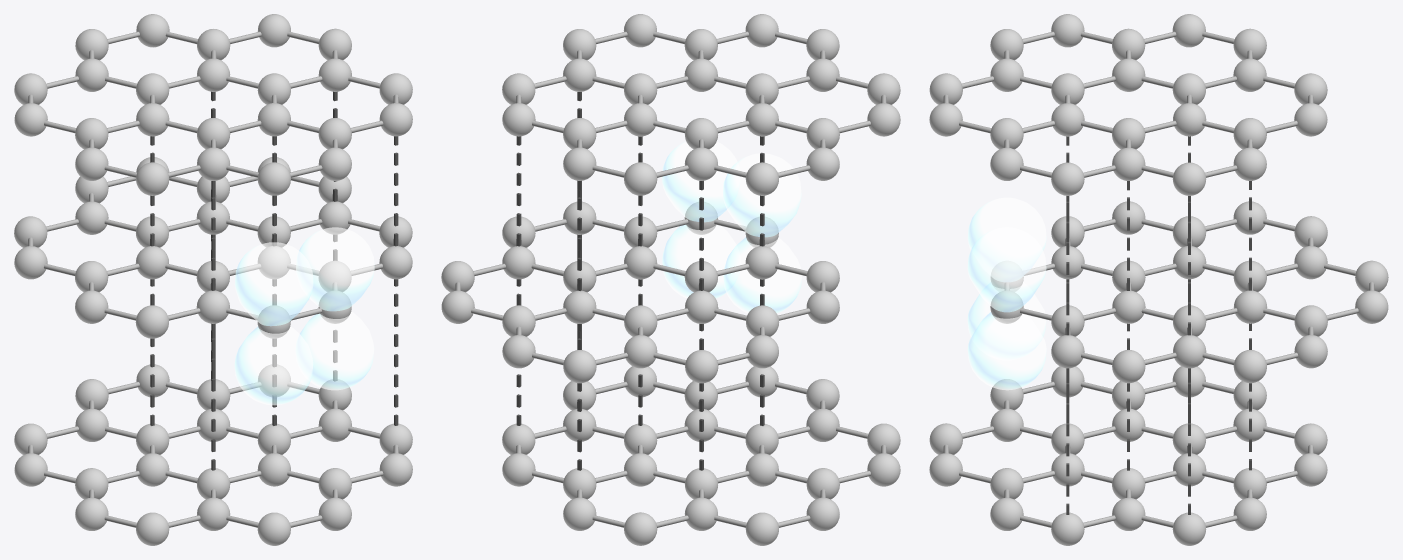
3 views of the same model, side by side, from view 1: azimuth 30°, elevation 25°; view 2: azimuth 150°, elevation 25°; view 3: azimuth 270°, elevation 25° (orthographic).
Visible parts, largest first — view 1: qiu, qiu_pai, yuanzhu, cube; view 2: qiu, qiu_pai, yuanzhu, cube; view 3: qiu, qiu_pai, yuanzhu, cube.
Part boxes in pixels (x1,y1,x2,y2): qiu: [14, 14, 412, 545]; qiu_pai: [234, 227, 374, 405]; yuanzhu: [28, 31, 398, 527]; cube: [150, 91, 398, 470]; qiu: [441, 14, 900, 545]; qiu_pai: [662, 142, 801, 312]; yuanzhu: [455, 31, 886, 527]; cube: [516, 92, 764, 470]; qiu: [929, 14, 1388, 545]; qiu_pai: [967, 197, 1046, 390]; yuanzhu: [943, 31, 1374, 527]; cube: [1066, 136, 1251, 514].
Bounding box in the file's own units: 97.88 × 97.85 × 107.
